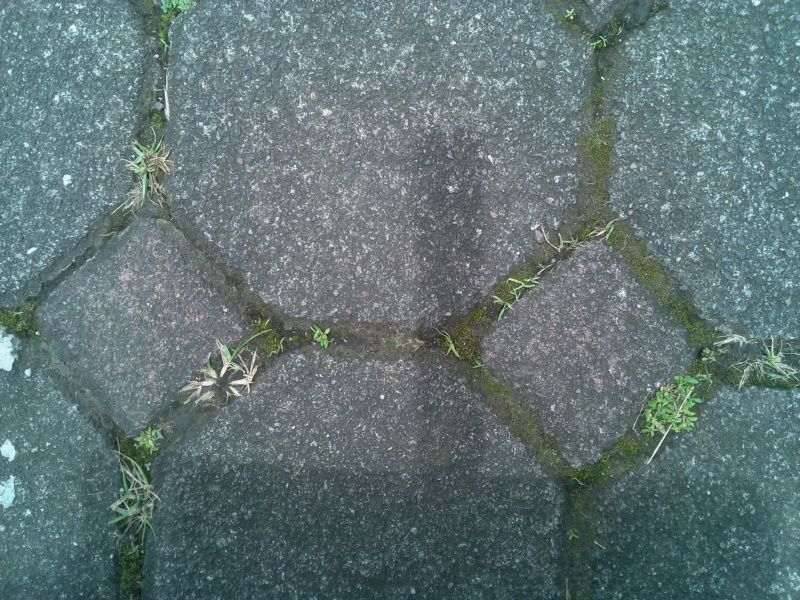Weed: (107, 426, 162, 535), (638, 370, 703, 451), (187, 341, 257, 408), (123, 139, 173, 210), (741, 344, 798, 389), (498, 273, 536, 320), (298, 323, 337, 352)
